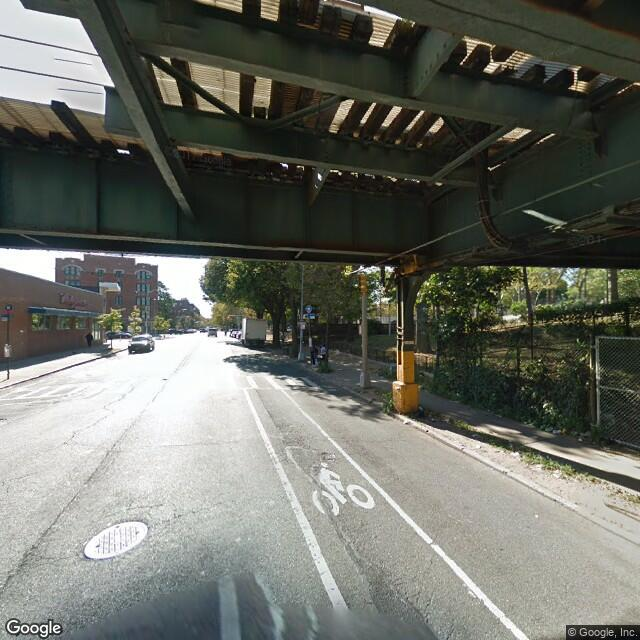litter: (553, 468, 563, 477), (510, 449, 519, 456), (475, 444, 478, 448)
